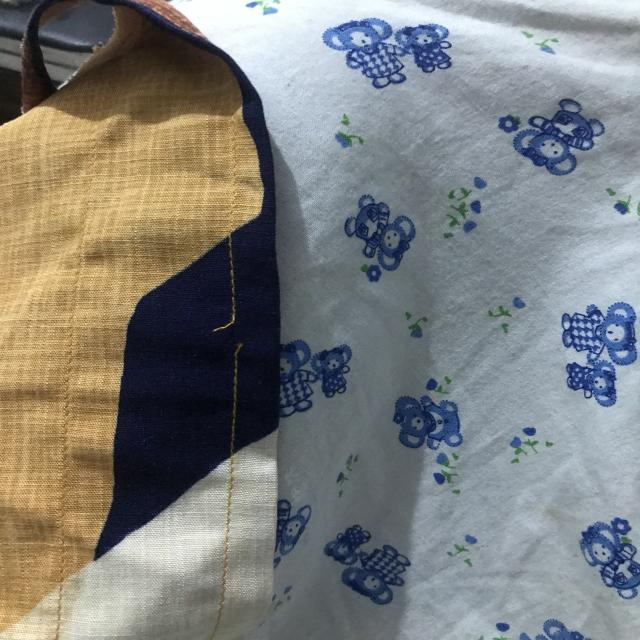broken: (206, 302, 256, 362)
good: (224, 367, 244, 441)
